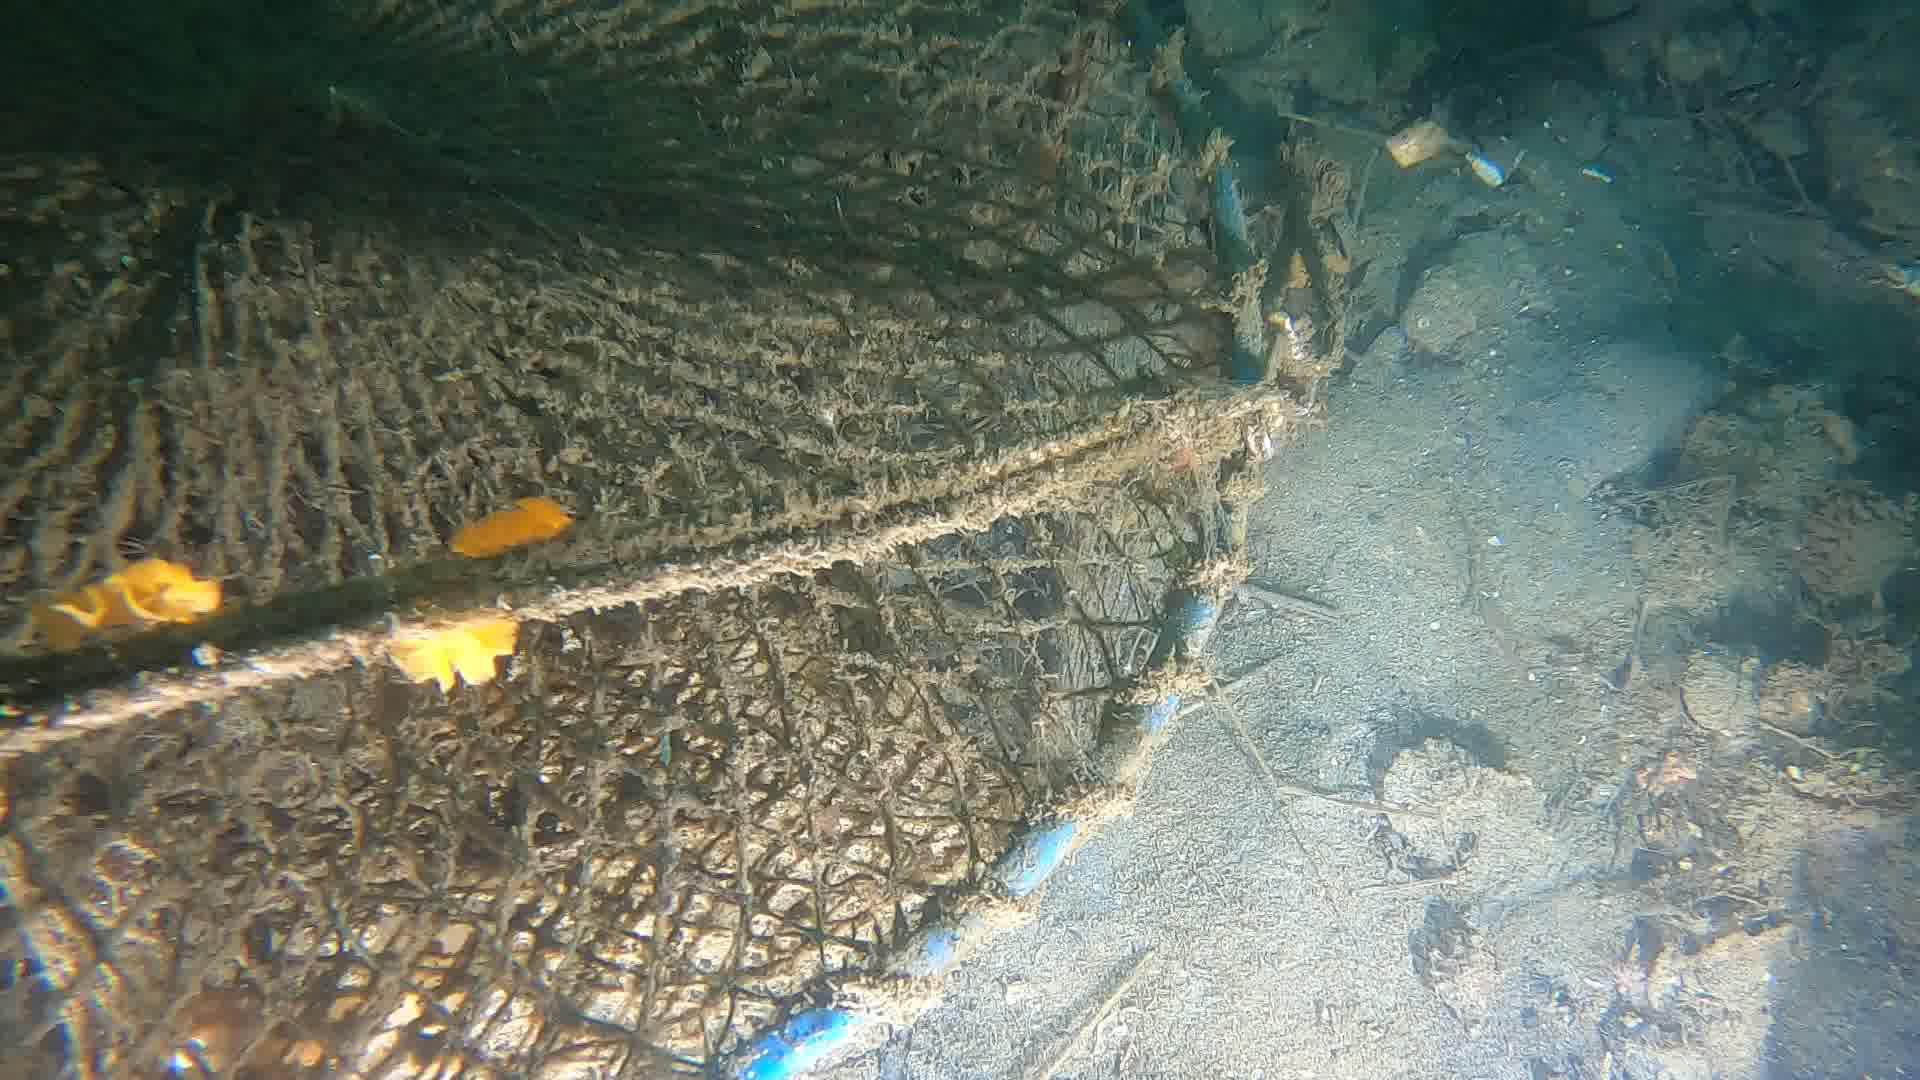circular fish trap: (0, 0, 1266, 1080)
rope: (0, 306, 1299, 831)
